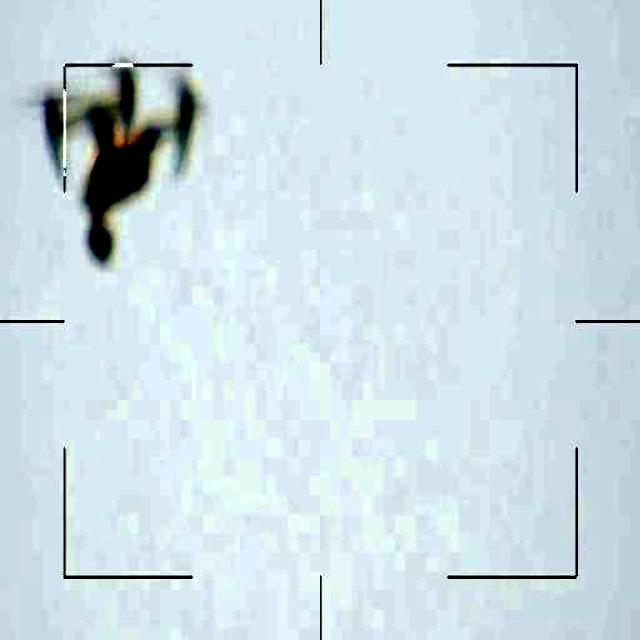bird: (30, 91, 206, 296)
